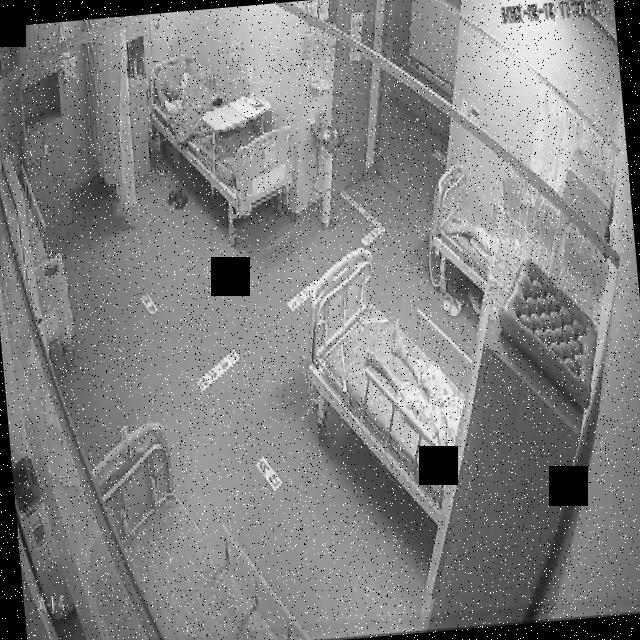bed: (296, 241, 476, 529), (87, 412, 311, 640), (140, 44, 300, 224), (426, 160, 500, 296)
lie: (362, 308, 469, 459)
patient: (363, 307, 470, 457), (160, 68, 198, 114)
